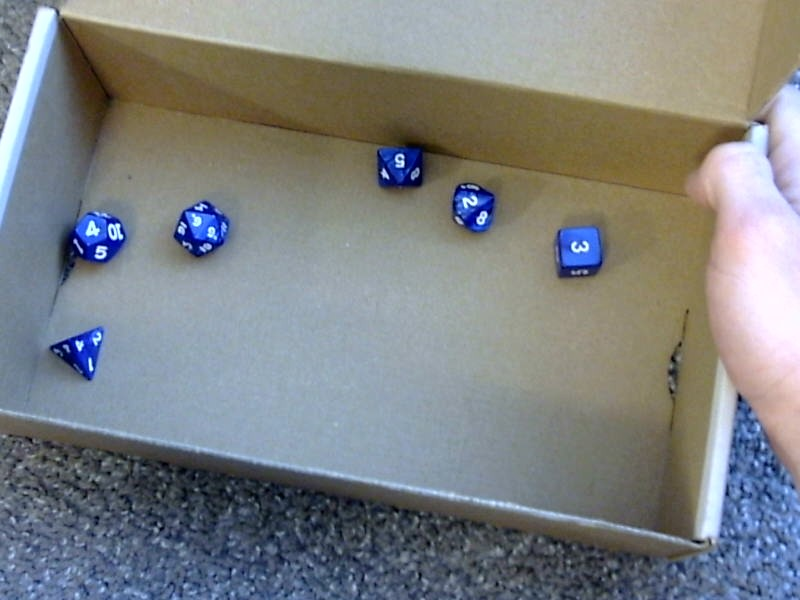d10 2: (448, 179, 500, 235)
d12 4: (67, 203, 127, 269)
d20 6: (167, 197, 237, 260)
d4 4: (44, 319, 107, 384)
d6 3: (548, 218, 613, 283)
d8 5: (373, 143, 425, 192)
